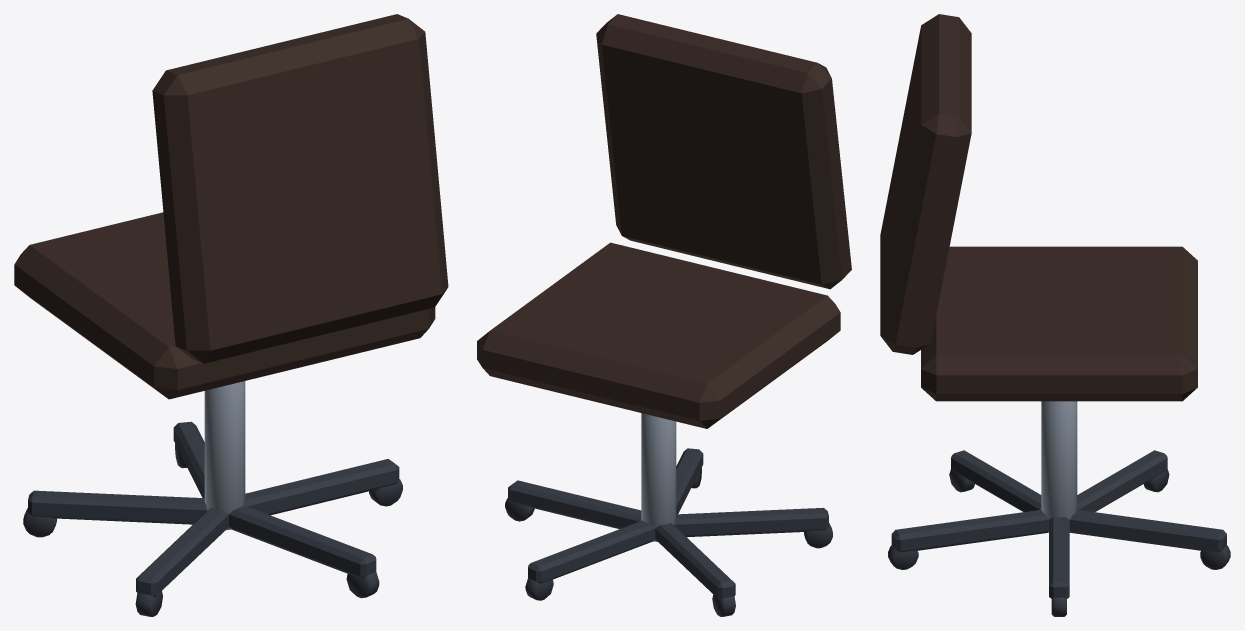
The model's file is prop_office_chair.obj.
3 renders of one model, left to right at view 1: azimuth 30°, elevation 25°; view 2: azimuth 150°, elevation 25°; view 3: azimuth 270°, elevation 25°, orthographic. The views are drawn at different scales.
Parts seen in each view (by area): view 1: Back, Seat, Piston, StarLeg_2, StarLeg_4, StarLeg_0, StarLeg_3, StarLeg_1, Caster_4, Caster_2; view 2: Back, Seat, Piston, StarLeg_3, StarLeg_1, StarLeg_0, StarLeg_2, StarLeg_4; view 3: Seat, Back, Piston, StarLeg_4, StarLeg_1, StarLeg_2, StarLeg_3, StarLeg_0, Caster_1, Caster_4.
Boxes of the visible parts, x1,y1,x2,y2 form: Back: (152, 14, 448, 363); Seat: (14, 212, 435, 399); Piston: (204, 381, 245, 530); StarLeg_2: (28, 490, 207, 524); StarLeg_4: (229, 505, 376, 578); StarLeg_0: (245, 459, 399, 515); StarLeg_3: (136, 508, 228, 597); StarLeg_1: (173, 421, 204, 498); Caster_4: (346, 572, 379, 598); Caster_2: (23, 508, 56, 537); Back: (596, 14, 851, 289); Seat: (477, 242, 840, 428); Piston: (641, 413, 676, 541); StarLeg_3: (674, 507, 828, 537); StarLeg_1: (528, 520, 655, 583); StarLeg_0: (508, 480, 641, 528); StarLeg_2: (655, 523, 735, 599); StarLeg_4: (676, 448, 703, 514); Seat: (921, 246, 1197, 401); Back: (880, 14, 971, 354); Piston: (1041, 401, 1077, 532); StarLeg_4: (891, 510, 1048, 552); StarLeg_1: (1069, 509, 1226, 552); StarLeg_2: (1077, 450, 1167, 511); StarLeg_3: (951, 450, 1041, 511); StarLeg_0: (1049, 517, 1069, 598); Caster_1: (1200, 545, 1230, 569); Caster_4: (888, 545, 918, 569).
Bounding box in the file's own units: 0.6357 × 1.04 × 0.6833.
